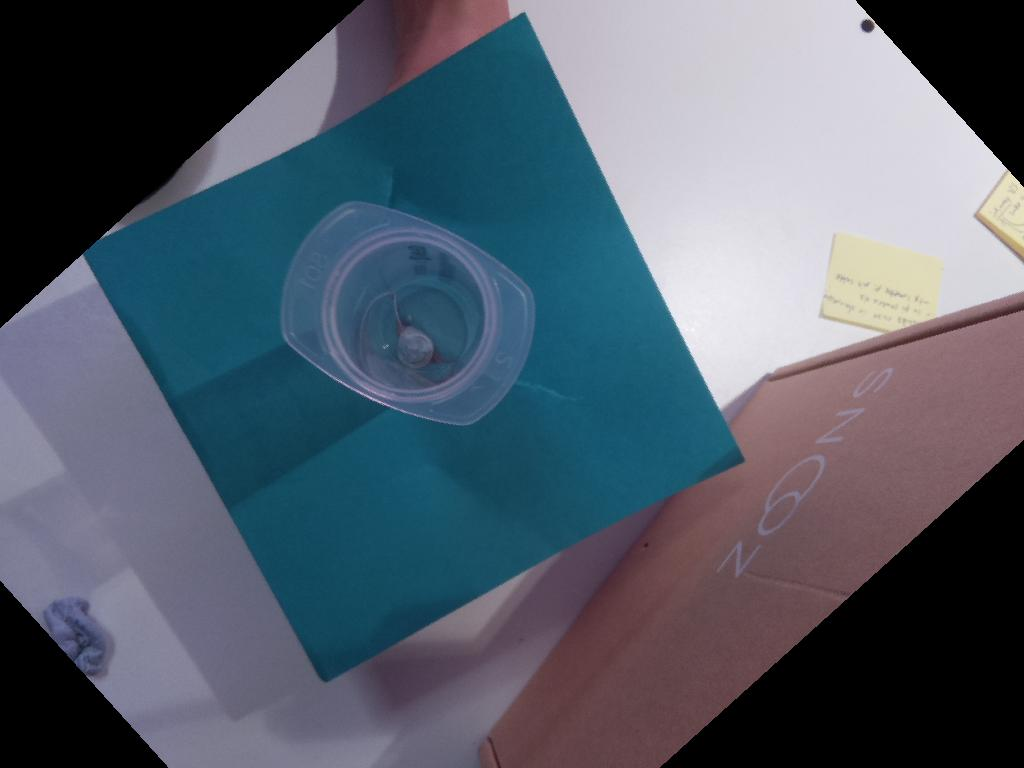clean: (279, 200, 536, 427)
